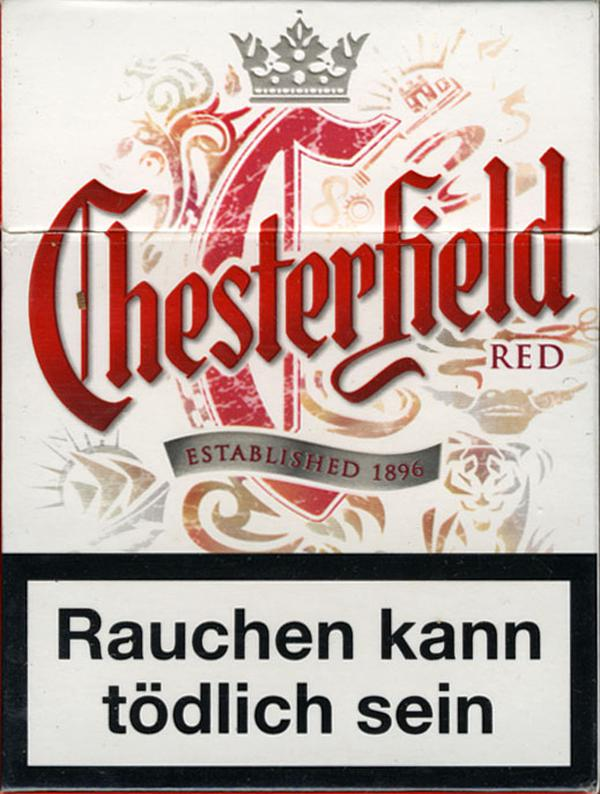chesterfield_red: (5, 2, 595, 794)
